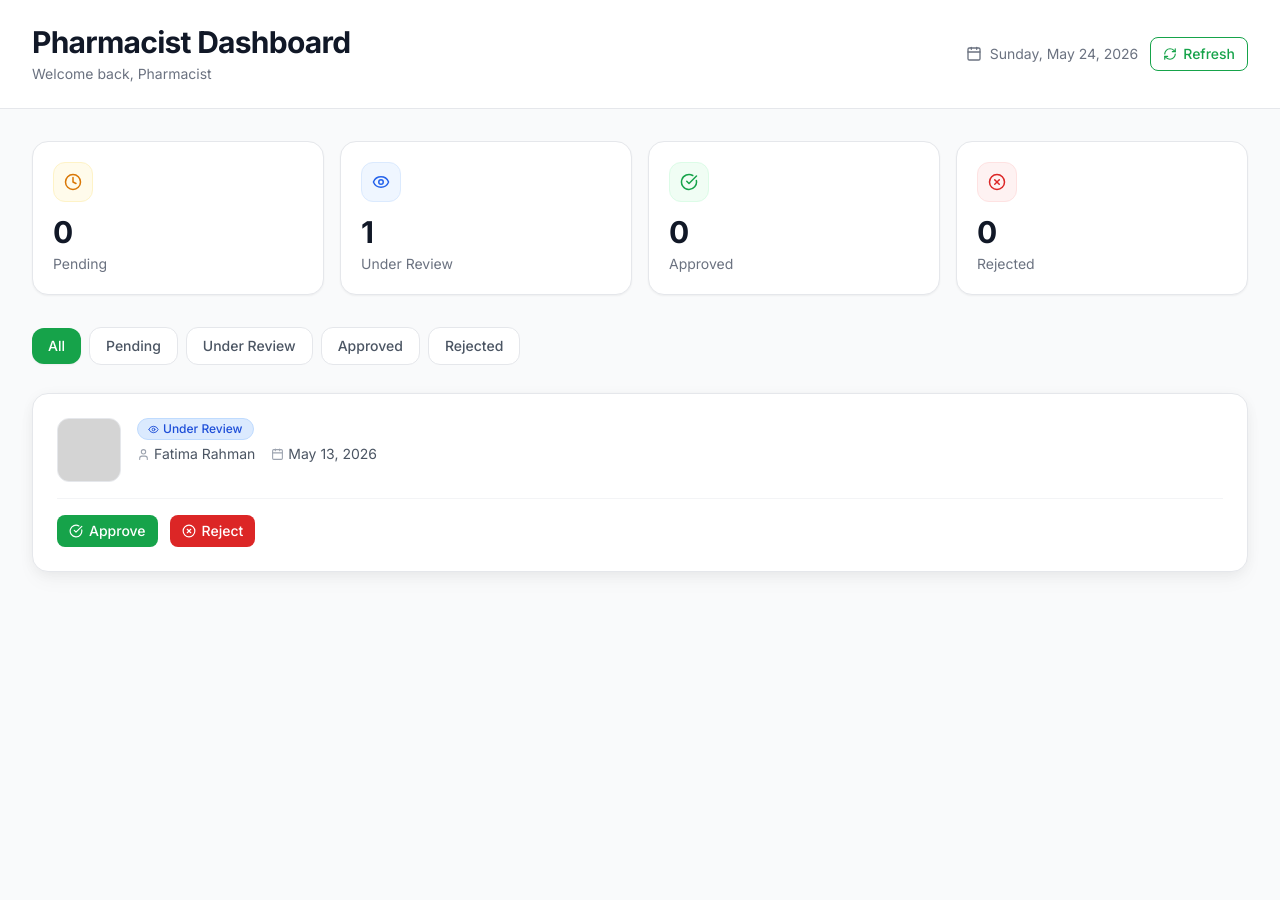
Test case: Approve flow › clicking Approve opens the approve modal
Click the button with test id "approve-btn" at point(107, 531), box [57,515,158,547]
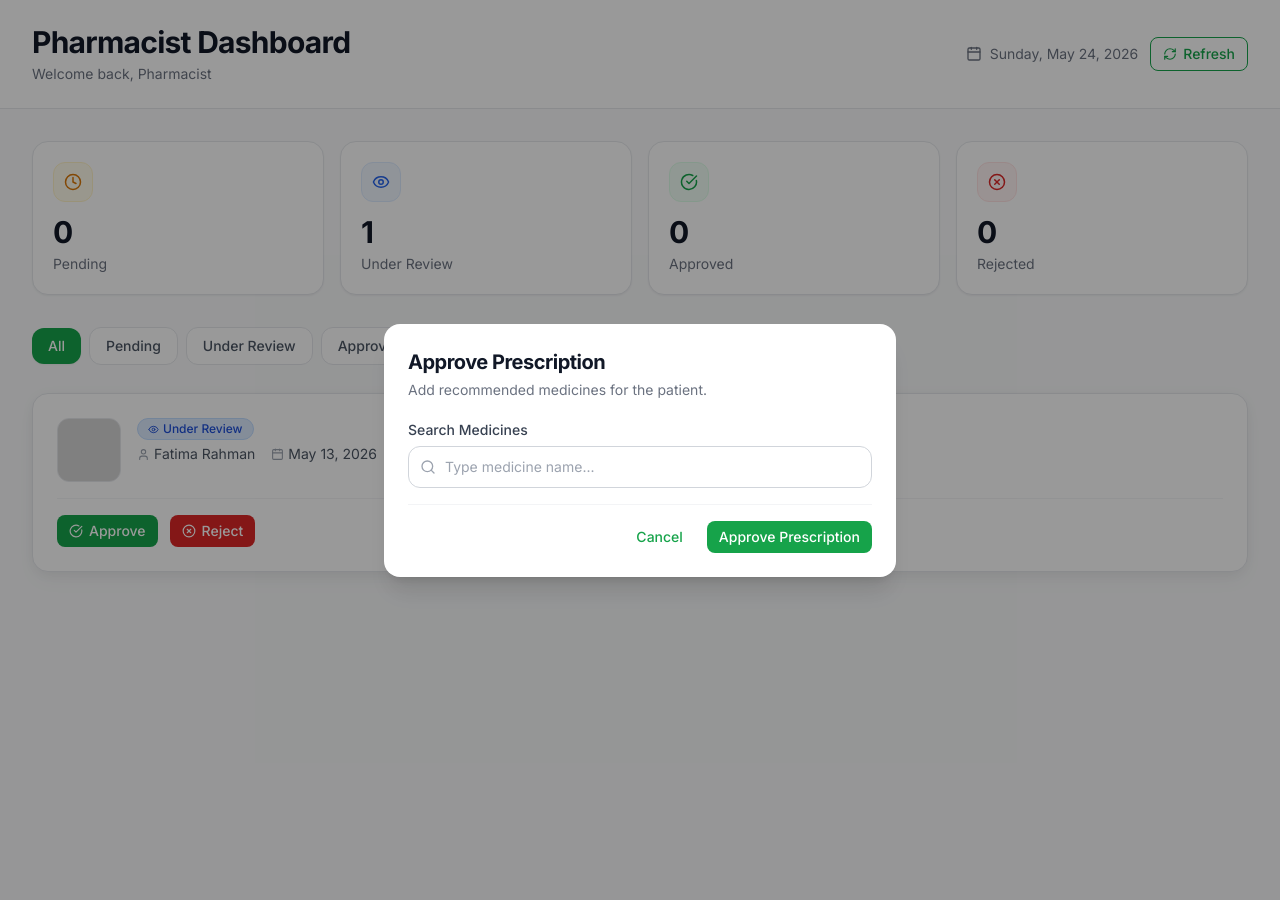
Result: the element with test id "approve-modal" is shown at [384,324,896,576]
